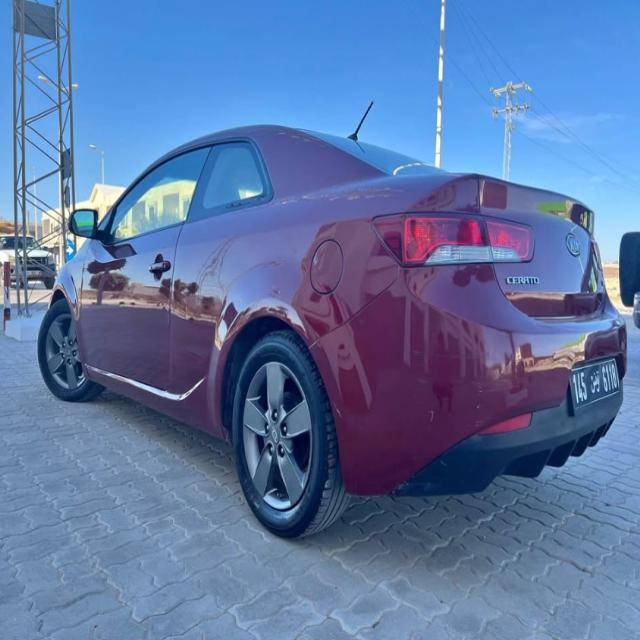licence plate: (571, 360, 620, 409)
